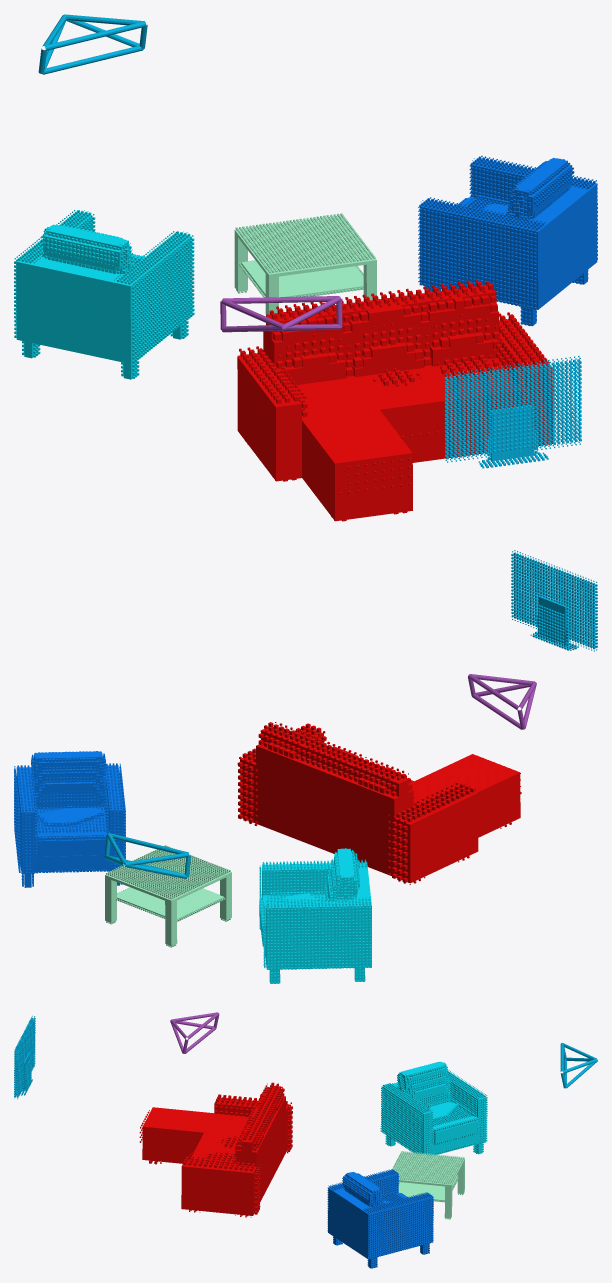
3 views of the same model, one above another, from view 1: azimuth 30°, elevation 25°; view 2: azimuth 150°, elevation 25°; view 3: azimuth 270°, elevation 25° (orthographic). The views are drawn at different scales.
Visible parts, largest first — view 1: Node; view 2: Node; view 3: Node.
Part boxes in pixels (<box>): Node: <box>14,14,597,521</box>; Node: <box>14,550,597,983</box>; Node: <box>14,1012,597,1268</box>.
Bounding box in the file's own units: 4.11 × 1.73 × 6.96.
